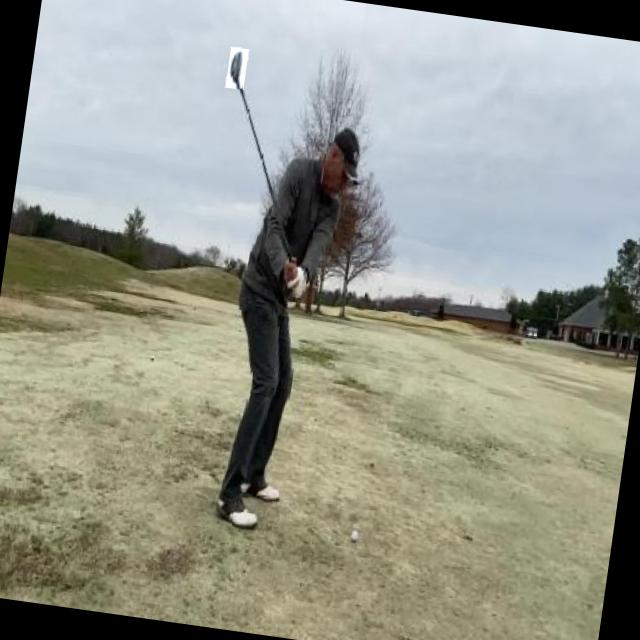club head: (226, 47, 248, 90)
